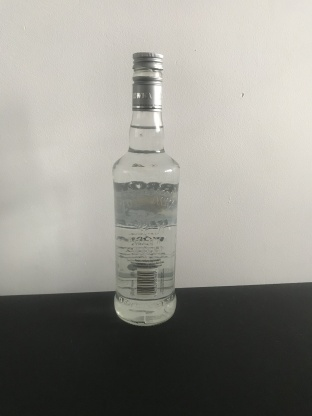nakretka: (130, 49, 164, 111)
